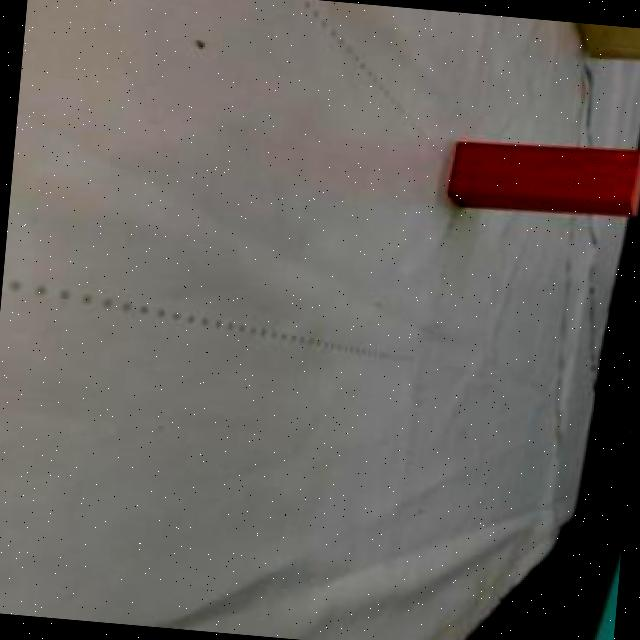redbox: (445, 132, 640, 219)
